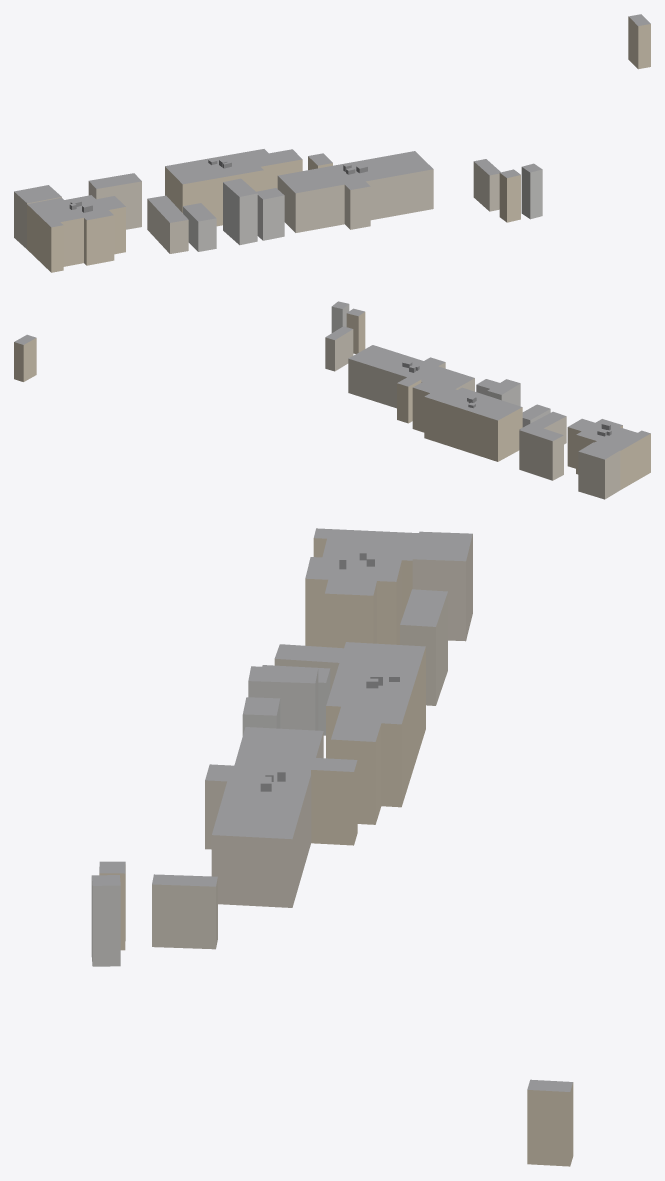
Rendered from building_4_-6.glb.
3 renders of one model, top to bottom at view 1: azimuth 30°, elevation 25°; view 2: azimuth 150°, elevation 25°; view 3: azimuth 270°, elevation 25°, orthographic. The views are drawn at different scales.
Parts seen in each view (by area): view 1: roof, concrete_warm, sandstone, concrete_light; view 2: sandstone, roof, concrete_warm, concrete_light; view 3: roof, sandstone, concrete_warm, concrete_light.
Part boxes in pixels (<box>): roof: <box>14,14,650,227</box>; concrete_warm: <box>14,161,499,253</box>; sandstone: <box>27,16,650,272</box>; concrete_light: <box>183,167,542,251</box>; sandstone: <box>14,312,650,489</box>; roof: <box>14,301,650,459</box>; concrete_warm: <box>325,329,620,499</box>; concrete_light: <box>331,304,550,427</box>; roof: <box>91,528,572,1091</box>; sandstone: <box>99,538,573,1166</box>; concrete_warm: <box>152,534,472,949</box>; concrete_light: <box>91,669,330,966</box>.
Bounding box in the file's own units: 221 × 16.88 × 80.47.
